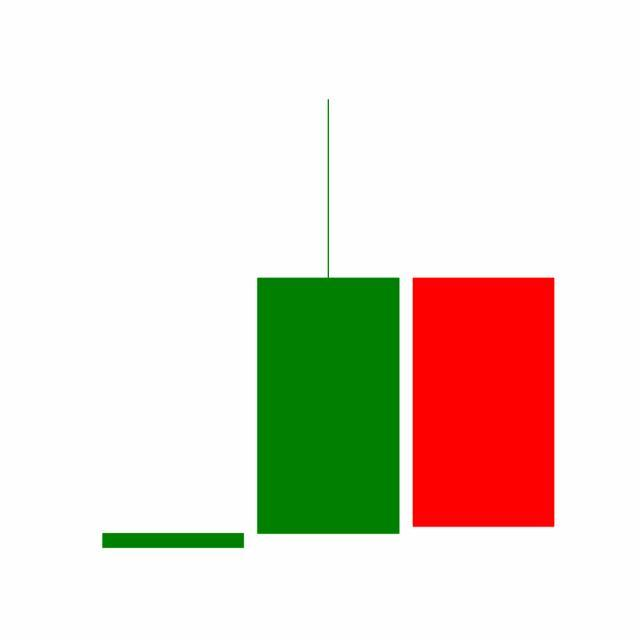Marubozu: (406, 276, 562, 530)
